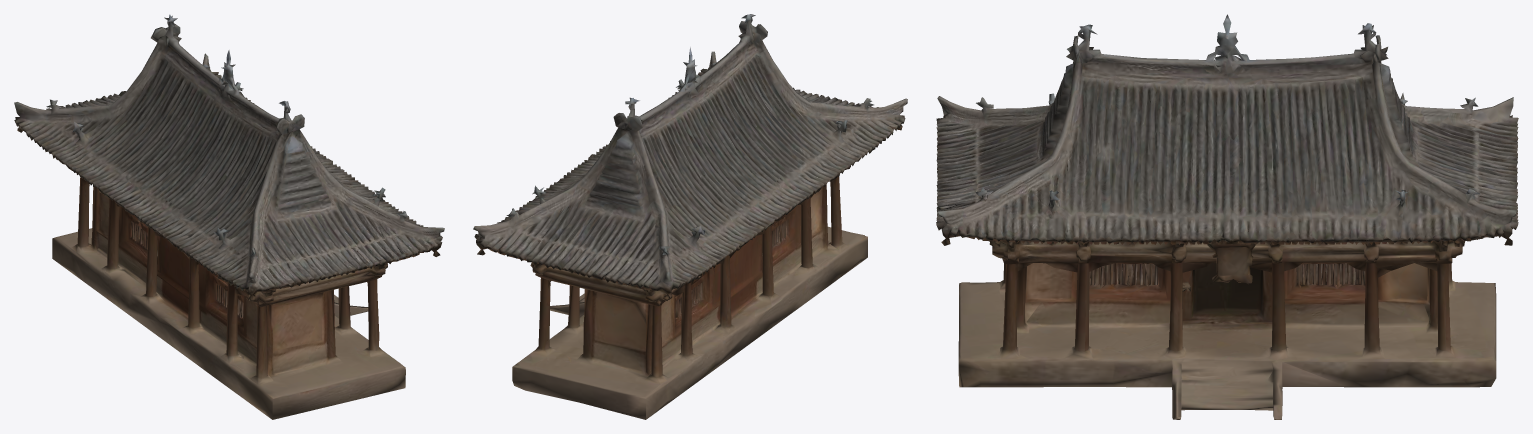
The model's file is building-dayunyuan.glb.
3 renders of one model, left to right at view 1: azimuth 30°, elevation 25°; view 2: azimuth 150°, elevation 25°; view 3: azimuth 270°, elevation 25°, orthographic. The views are drawn at different scales.
Visible parts, largest first — view 1: node_06a1b5b9-8cc4-405f-8e98-70e6078cc18d; view 2: node_06a1b5b9-8cc4-405f-8e98-70e6078cc18d; view 3: node_06a1b5b9-8cc4-405f-8e98-70e6078cc18d.
Boxes of the visible parts, x1,y1,x2,y2 form: node_06a1b5b9-8cc4-405f-8e98-70e6078cc18d: [14, 14, 444, 419]; node_06a1b5b9-8cc4-405f-8e98-70e6078cc18d: [473, 14, 907, 419]; node_06a1b5b9-8cc4-405f-8e98-70e6078cc18d: [936, 14, 1518, 419].
Bounding box in the file's own units: 0.5388 × 0.6328 × 1.
1 material, 1 textured.
